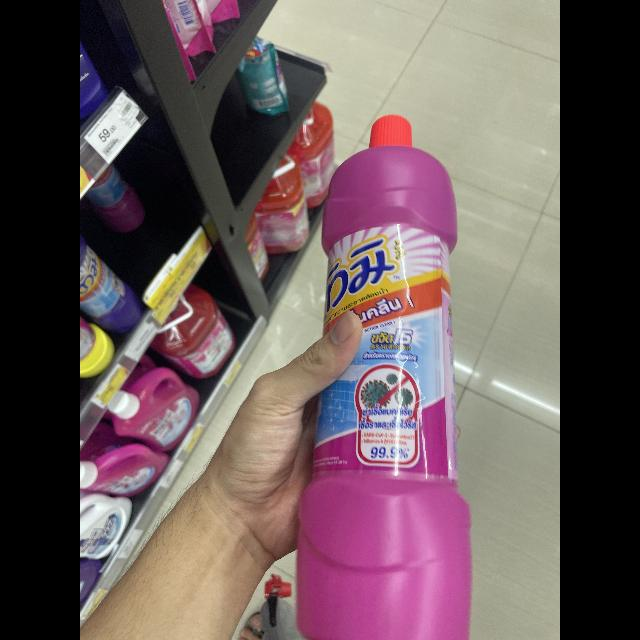chemical_plastic_bottle: (284, 114, 480, 640)
